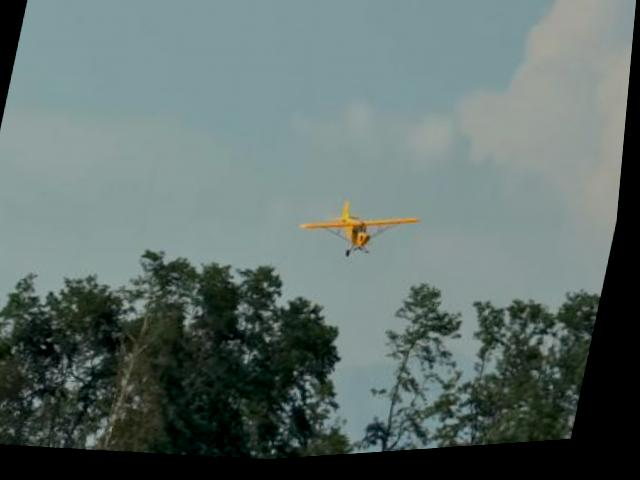uav: (297, 198, 426, 272)
